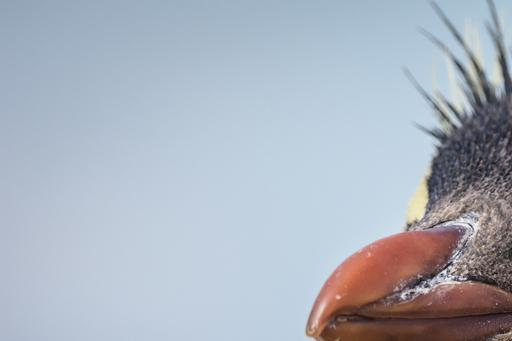Southern Rockhopper Penguin: (161, 2, 512, 341)
